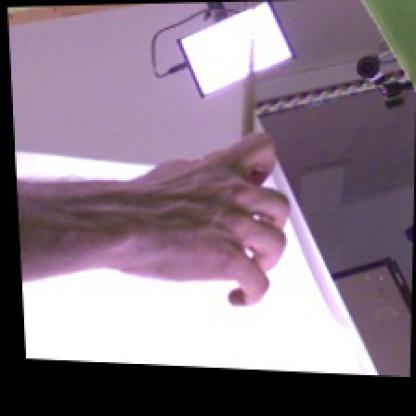Hand: (116, 129, 293, 308)
